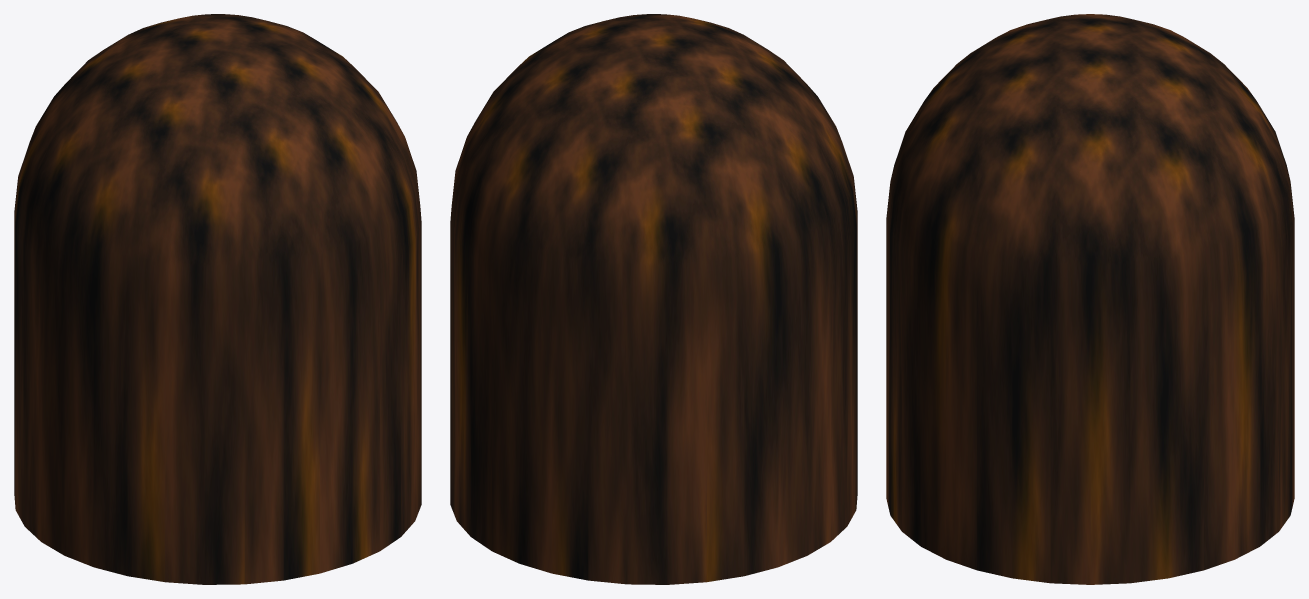
The model's file is sky.obj.
3 renders of one model, left to right at view 1: azimuth 30°, elevation 25°; view 2: azimuth 150°, elevation 25°; view 3: azimuth 270°, elevation 25°, orthographic.
Parts seen in each view (by area): view 1: Plane; view 2: Plane; view 3: Plane.
Part boxes in pixels (x1,y1,x2,y2): Plane: (14, 14, 421, 584); Plane: (450, 14, 857, 584); Plane: (886, 14, 1294, 584).
Size of the model in its own units: 200 by 252 by 200.
1 material, 1 textured.
